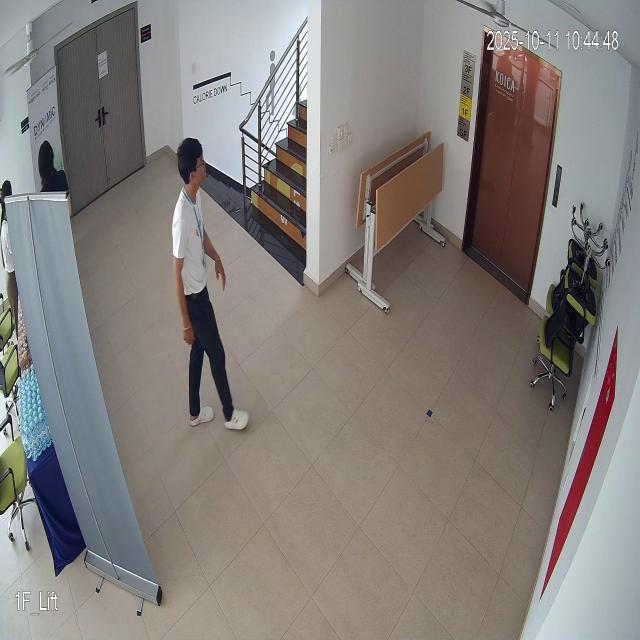face: (174, 122, 212, 194)
